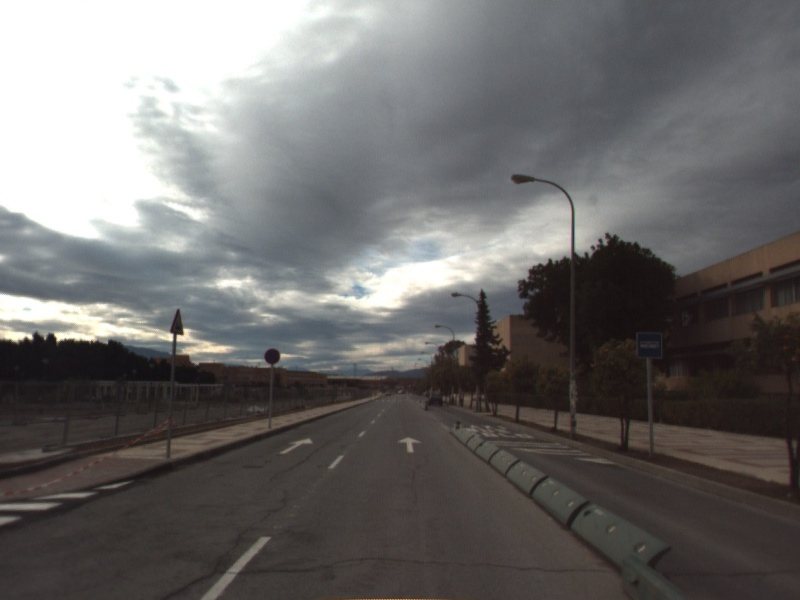STRAIGHT: (277, 435, 315, 456), (395, 434, 424, 454)
